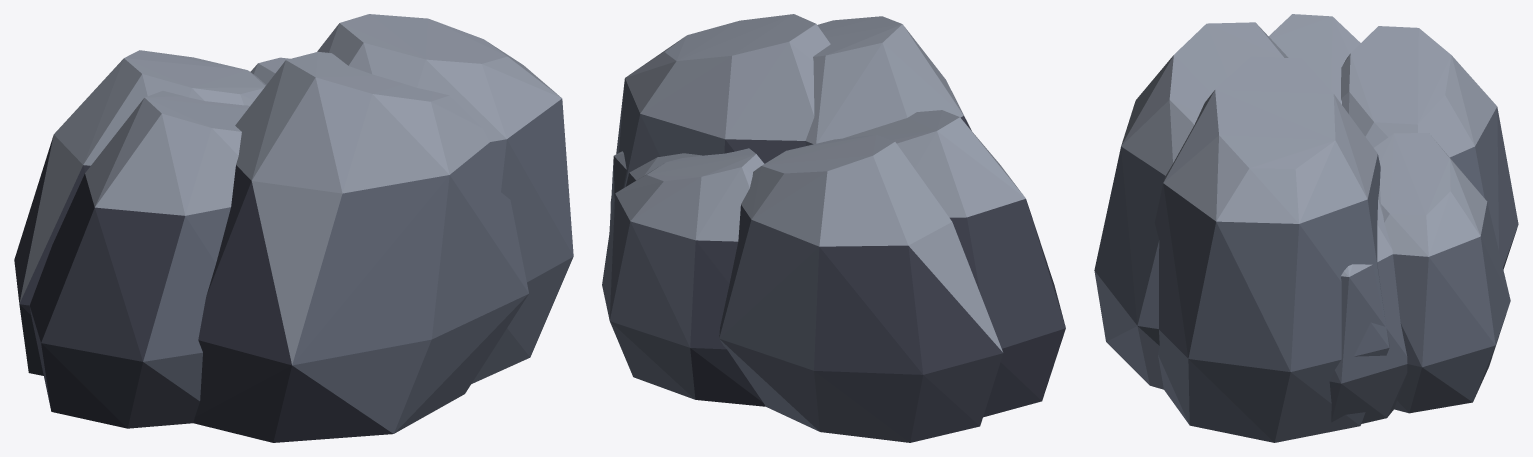
File: TW_ROCK_CLUSTER_LARGE_B_LOD0.glb
The picture shows the model from 3 angles, left to right: view 1: azimuth 30°, elevation 25°; view 2: azimuth 150°, elevation 25°; view 3: azimuth 270°, elevation 25°; orthographic projection. The views are drawn at different scales.
Parts seen in each view (by area): view 1: TW_ROCK_CLUSTER_LARGE_B_LOD0; view 2: TW_ROCK_CLUSTER_LARGE_B_LOD0; view 3: TW_ROCK_CLUSTER_LARGE_B_LOD0.
Boxes of the visible parts, x1,y1,x2,y2 form: TW_ROCK_CLUSTER_LARGE_B_LOD0: [14, 14, 573, 442]; TW_ROCK_CLUSTER_LARGE_B_LOD0: [602, 14, 1065, 442]; TW_ROCK_CLUSTER_LARGE_B_LOD0: [1094, 14, 1518, 442].
Bounding box in the file's own units: 1.85 × 1.14 × 1.42.
1 material, 1 textured.
